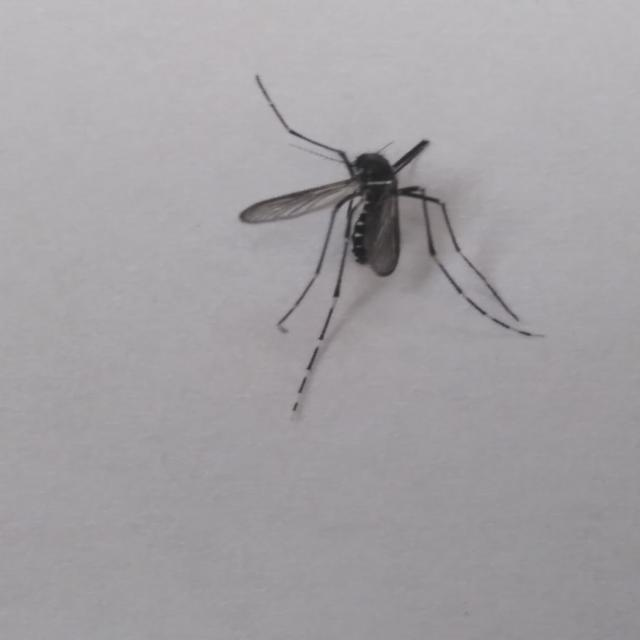albopictus: (235, 46, 543, 399)
